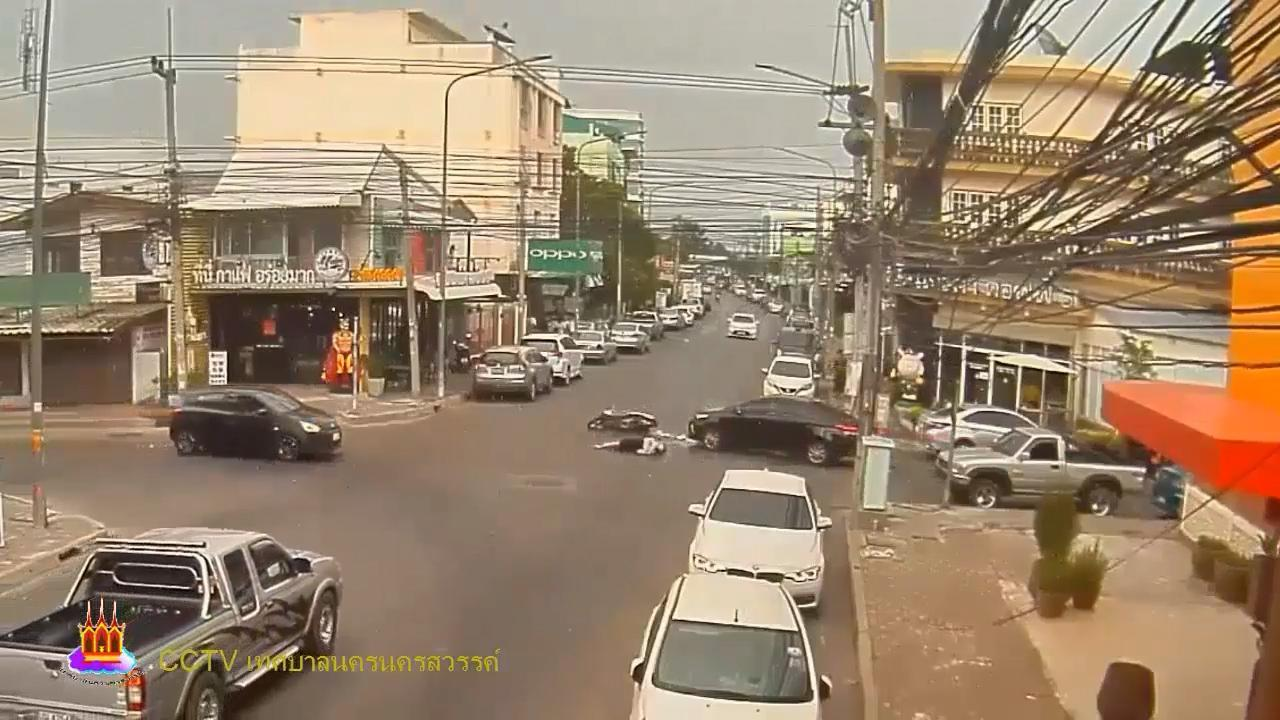accident: (593, 437, 671, 460)
